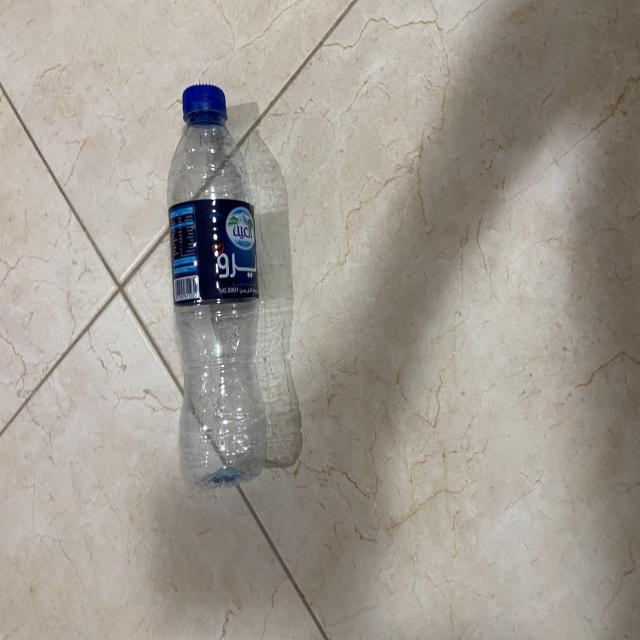plastic: (166, 77, 269, 493)
